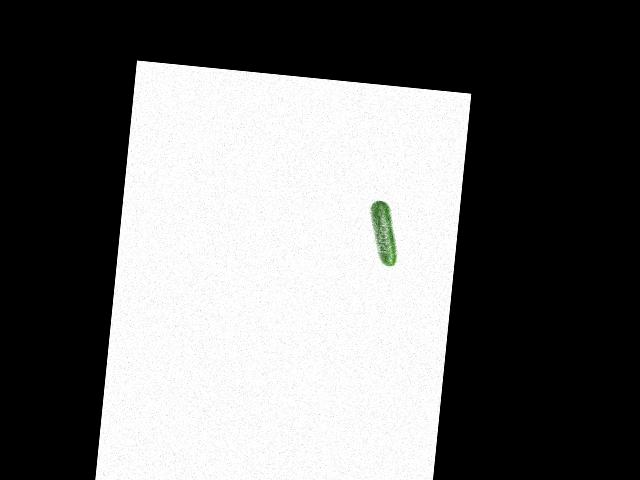cucumber: (365, 199, 402, 266)
